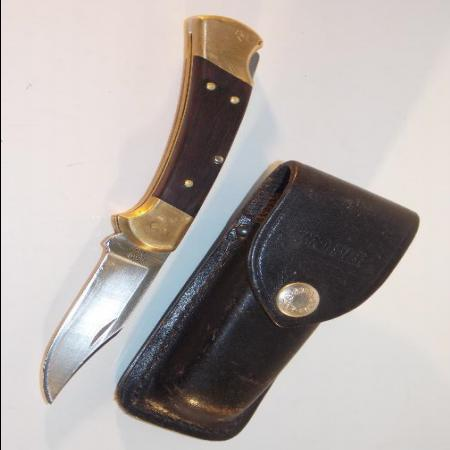long weapon: (38, 197, 188, 415)
